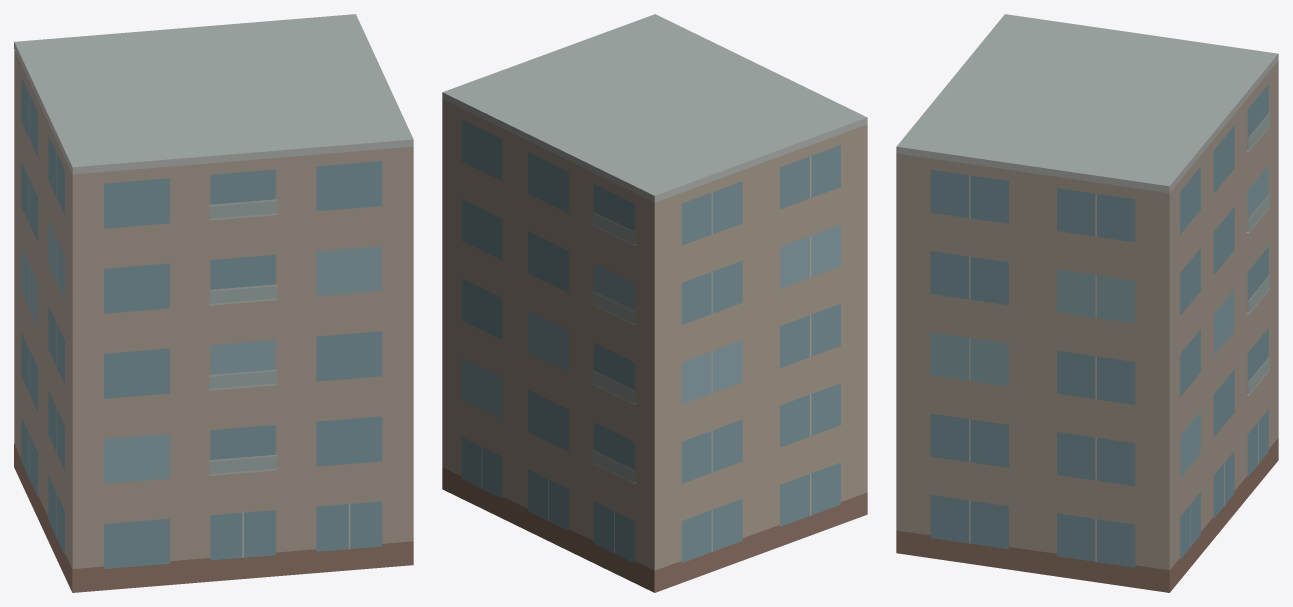
Rendered from survey-upis-33029226.glb.
3 renders of one model, left to right at view 1: azimuth 30°, elevation 25°; view 2: azimuth 150°, elevation 25°; view 3: azimuth 270°, elevation 25°, orthographic. The views are drawn at different scales.
Visible parts, largest first — view 1: survey-upis-33029226.tmp; view 2: survey-upis-33029226.tmp; view 3: survey-upis-33029226.tmp.
Boxes of the visible parts, box(x1,y1,x2,y2) form: survey-upis-33029226.tmp: box(14, 14, 413, 592); survey-upis-33029226.tmp: box(442, 14, 867, 592); survey-upis-33029226.tmp: box(896, 14, 1278, 592).
Size of the model in its own units: 13.15 by 14.45 by 12.32.
